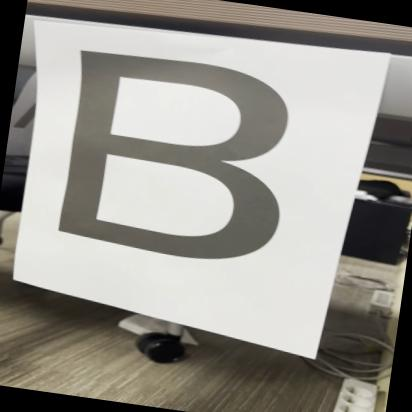seat: (33, 33, 336, 278)
